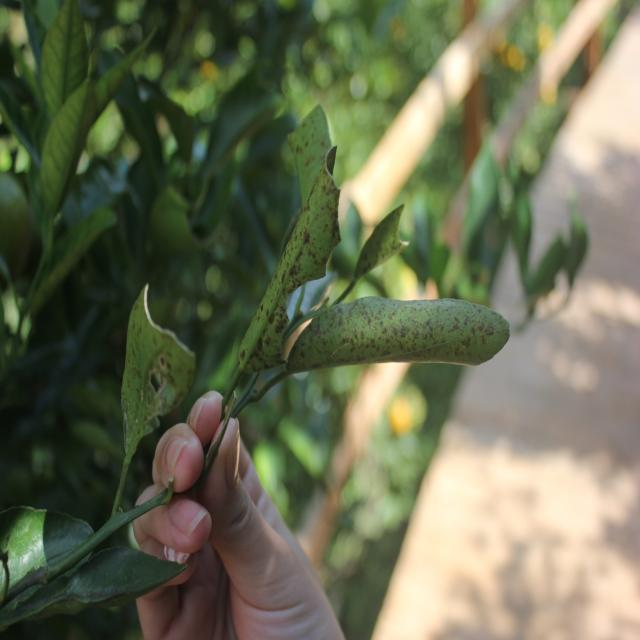melanose: (225, 142, 346, 381), (287, 294, 514, 388), (276, 106, 360, 266), (111, 296, 194, 441)
